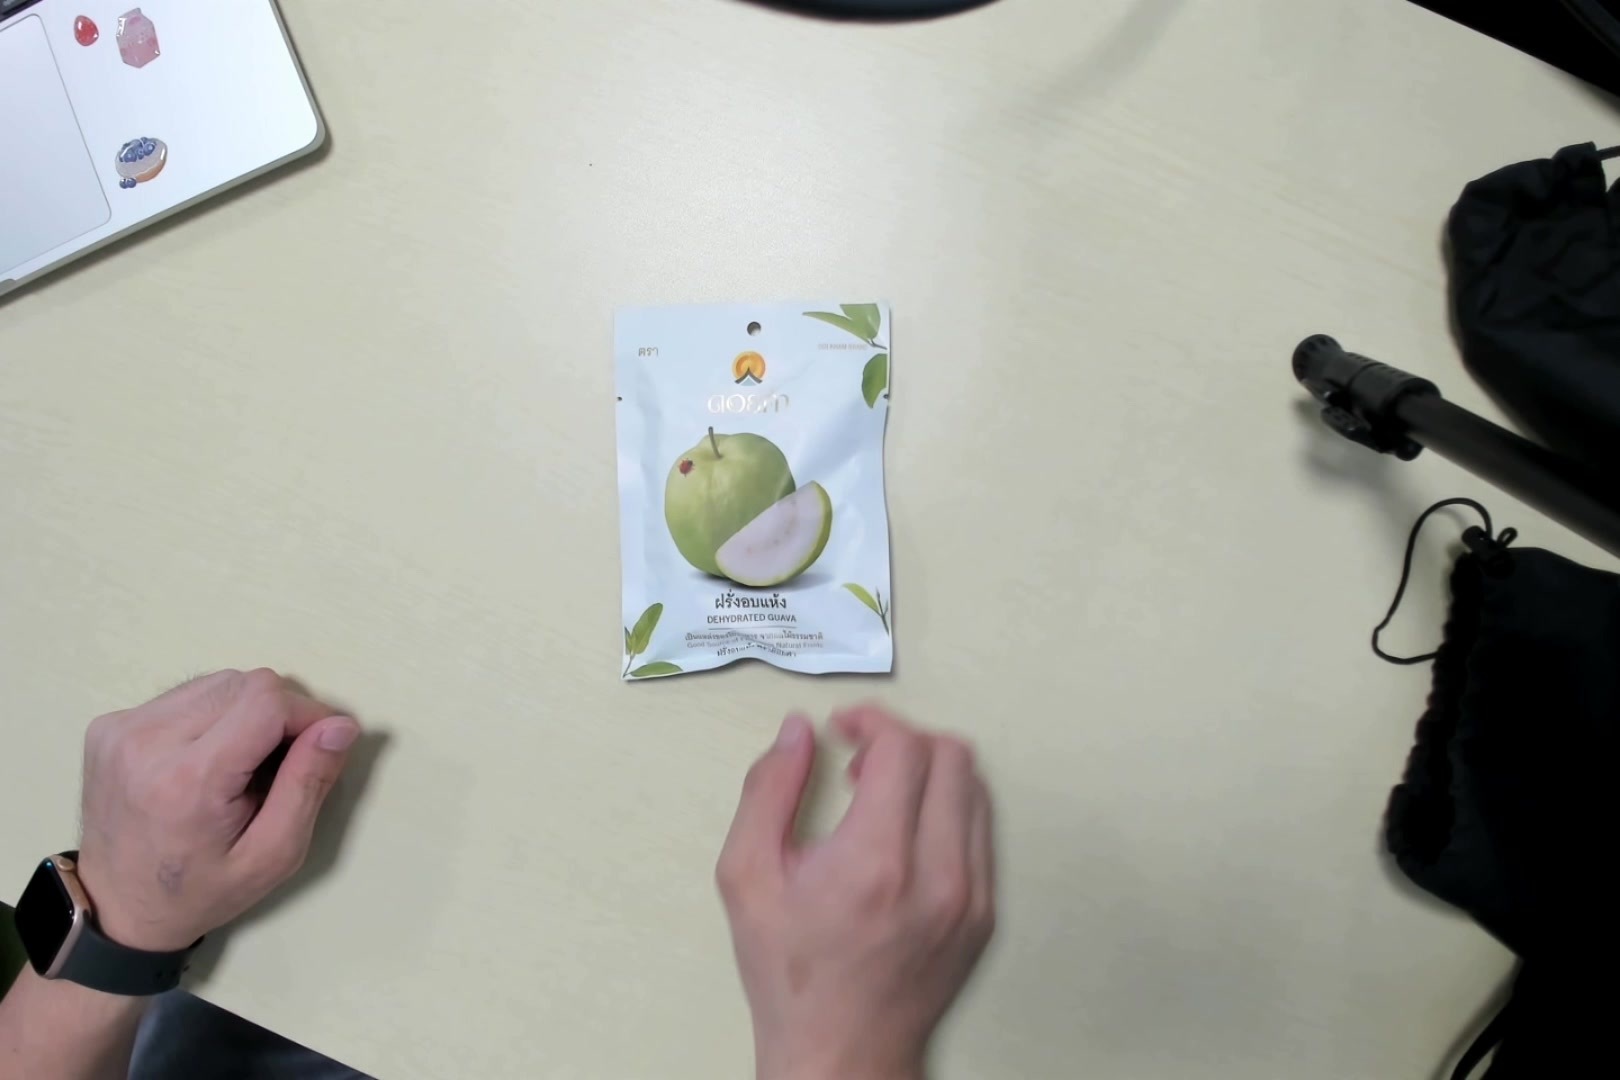DriedFruits_0-99g_Halal_NonHealthy: (607, 295, 897, 675)
